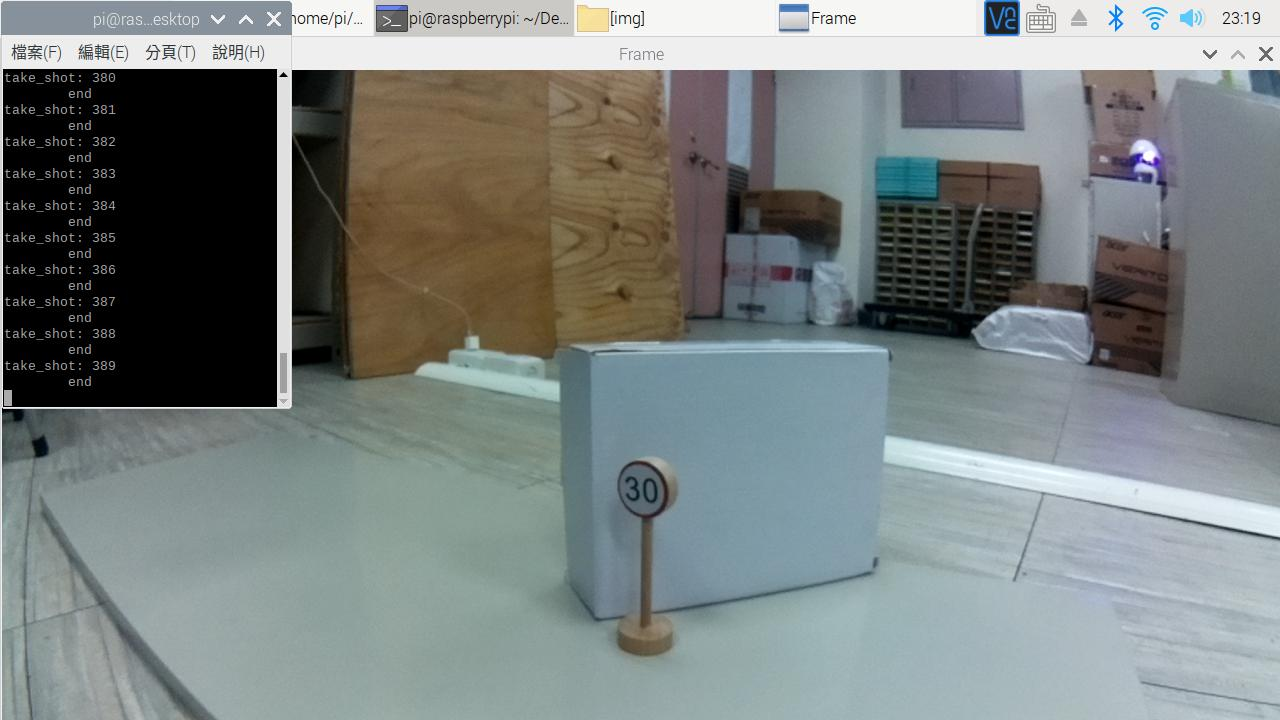Speed30: (607, 451, 690, 527)
